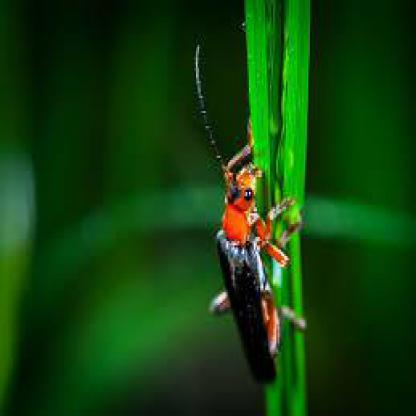blister beetle: (193, 49, 295, 388)
